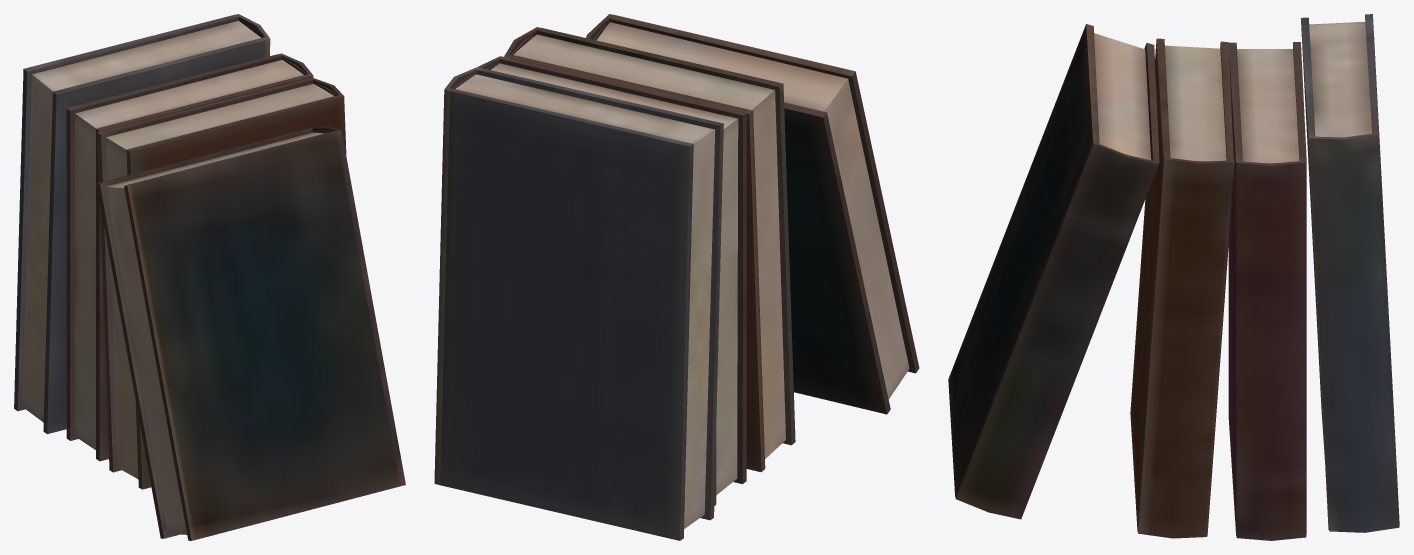
File: book-pile-e.lod1.glb
The picture shows the model from 3 angles, left to right: view 1: azimuth 30°, elevation 25°; view 2: azimuth 150°, elevation 25°; view 3: azimuth 270°, elevation 25°; orthographic projection. The views are drawn at different scales.
Visible parts, largest first — view 1: book-pile-e; view 2: book-pile-e; view 3: book-pile-e.
Boxes of the visible parts, x1,y1,x2,y2 form: book-pile-e: [14, 14, 405, 540]; book-pile-e: [434, 14, 919, 540]; book-pile-e: [948, 14, 1399, 540].
Size of the model in its own units: 0.1925 by 0.2489 by 0.2562.
1 material, 1 textured.
